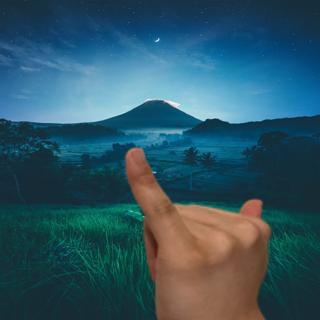HAVE: (109, 139, 294, 320)
